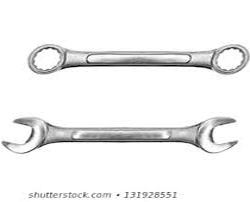wrench: (4, 95, 250, 172)
